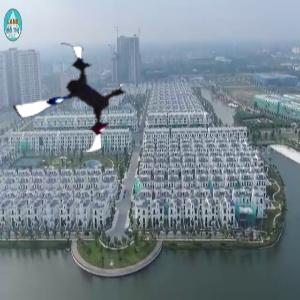drone: (14, 41, 135, 162)
